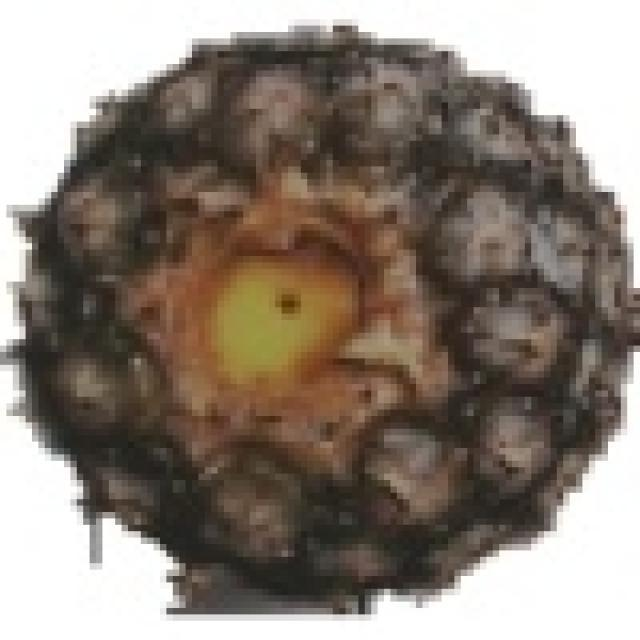pineapple: (38, 19, 634, 595)
